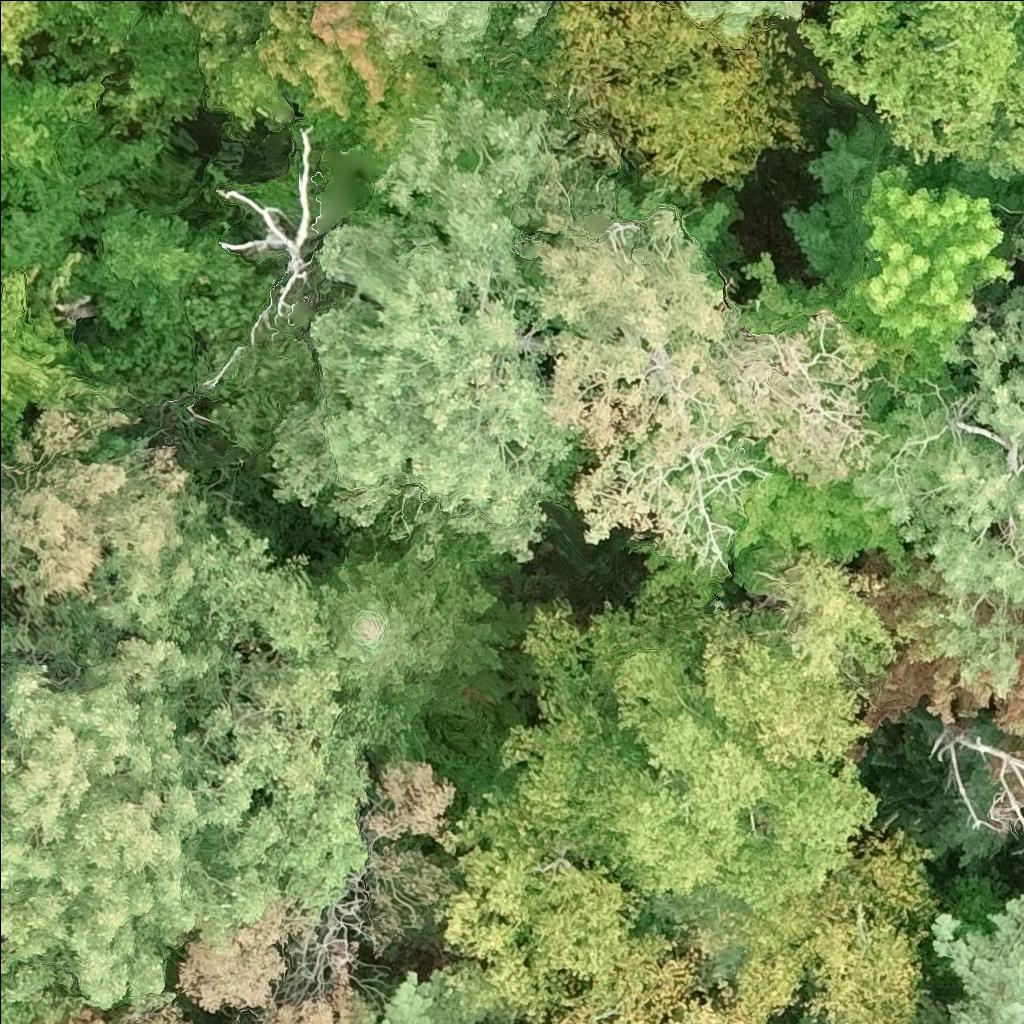crown: (0, 597, 373, 1004), (273, 85, 570, 558), (515, 554, 887, 916), (518, 211, 867, 573), (0, 412, 329, 659), (853, 294, 1023, 688), (437, 779, 676, 1016), (659, 830, 932, 1023), (538, 0, 806, 191), (803, 0, 1023, 183), (847, 542, 1023, 761), (313, 543, 526, 718), (834, 170, 1013, 372), (518, 896, 746, 1023), (250, 0, 437, 151), (0, 275, 130, 466), (221, 130, 316, 329), (0, 66, 107, 198), (179, 229, 279, 359), (933, 892, 1023, 1023), (388, 0, 547, 68), (930, 730, 1023, 835), (195, 38, 293, 133), (0, 932, 67, 1023), (667, 0, 805, 44), (371, 972, 461, 1023), (0, 0, 65, 65), (1015, 233, 1023, 265), (1020, 183, 1023, 234), (1012, 847, 1023, 856), (0, 469, 5, 484), (0, 658, 2, 670), (0, 724, 2, 732)
